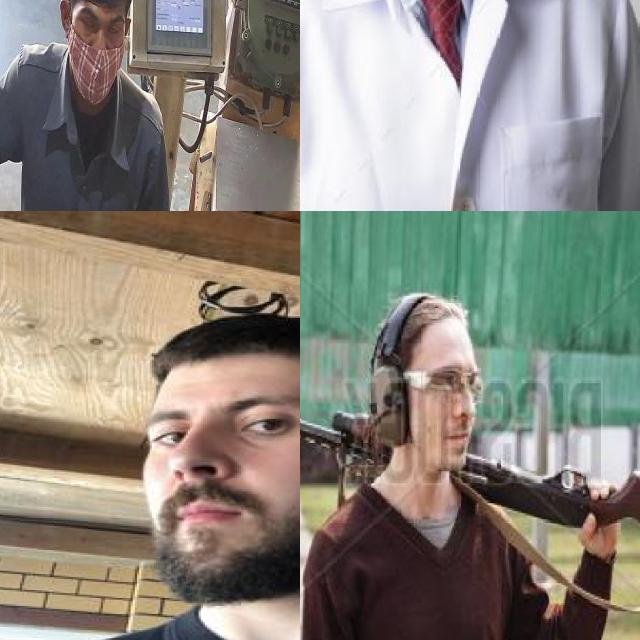No_Glasses: (125, 394, 300, 466)
face_mask: (68, 8, 129, 101)
face_nomask: (141, 388, 300, 601), (430, 370, 484, 449)
glasses: (404, 363, 487, 404)
hand_noglove: (577, 477, 623, 556)
head_nohelmet: (145, 310, 300, 385), (376, 284, 476, 355)
person: (300, 299, 629, 640), (0, 321, 300, 640), (300, 0, 640, 211), (5, 0, 177, 211)
